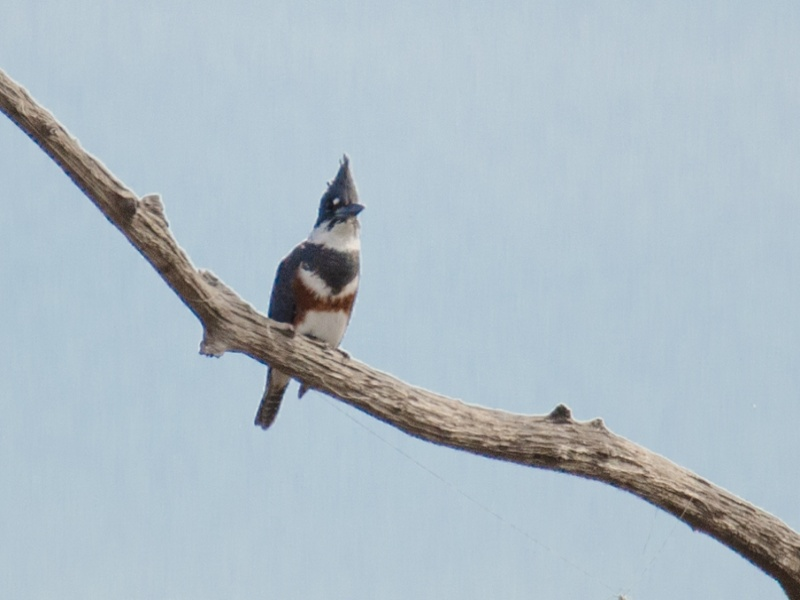kingfisher: (252, 152, 366, 435)
